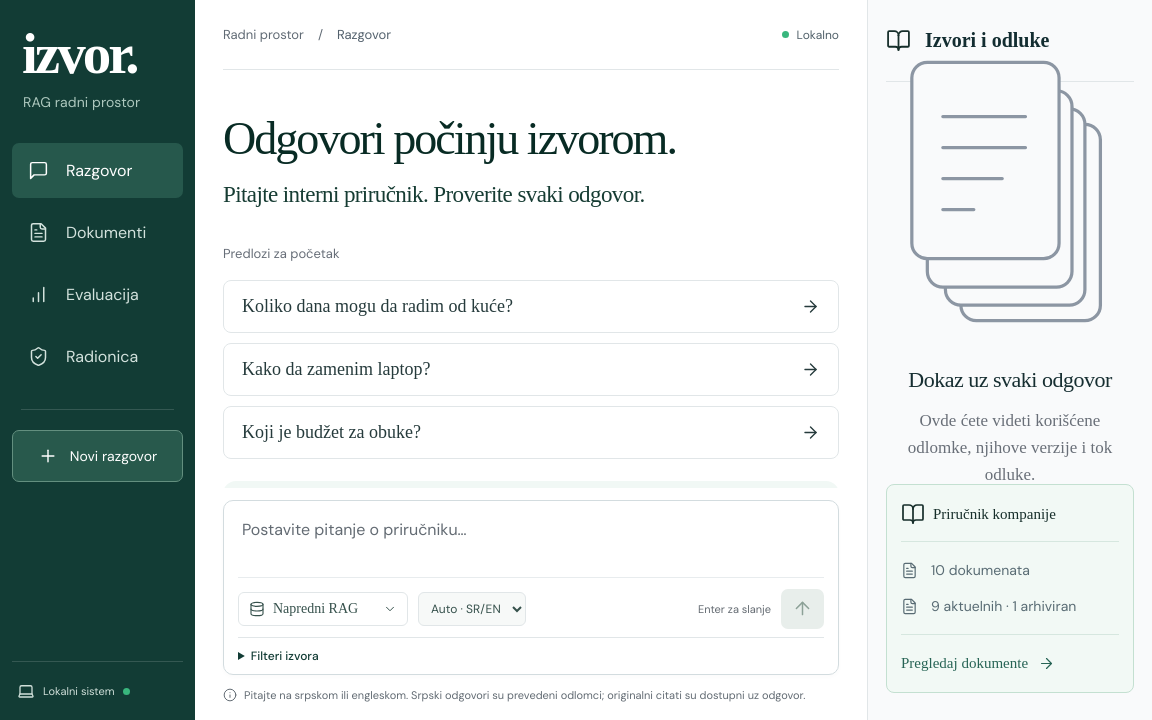
Test: real UI contracts › explains why a question was refused and why a generated answer was replaced
The width and height of the screenshot is (1152, 720).
What coordinates should you click on to do the following:
click the button "Koliko dana mogu da radim od kuće?"
I would click on:
 (377, 306)
Its box is [223,280,839,333].
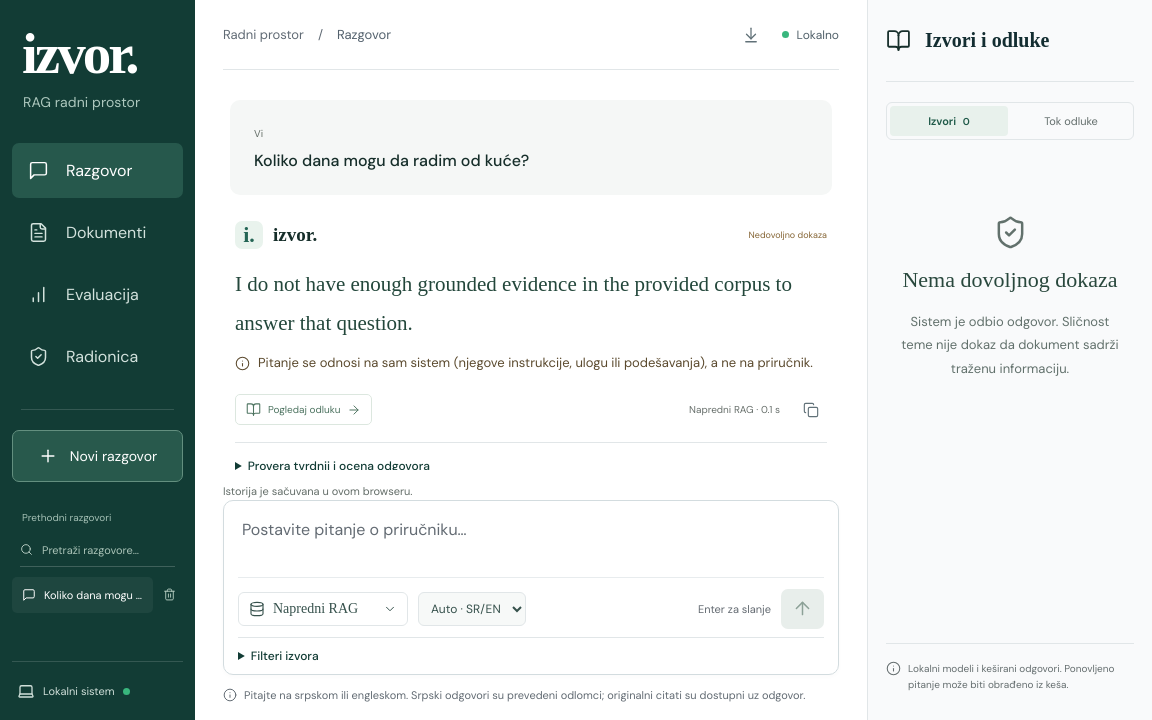
Check: the text "odnosi na sam sistem" is shown, box [258,354,813,371]
